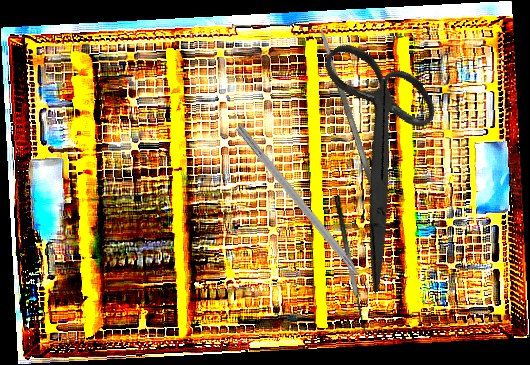Chopper: (225, 123, 382, 309)
Iris Scissors: (251, 19, 504, 294)
Spatula Surgical: (317, 26, 376, 186), (333, 193, 376, 335)
